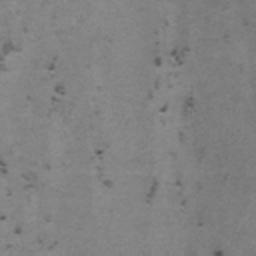Oxide scale of temperature system: (146, 46, 196, 145), (26, 61, 67, 104), (143, 177, 187, 207), (0, 157, 35, 191), (219, 18, 252, 46), (0, 37, 23, 72), (95, 147, 114, 188), (0, 214, 22, 236), (212, 248, 225, 256), (195, 219, 204, 227)
